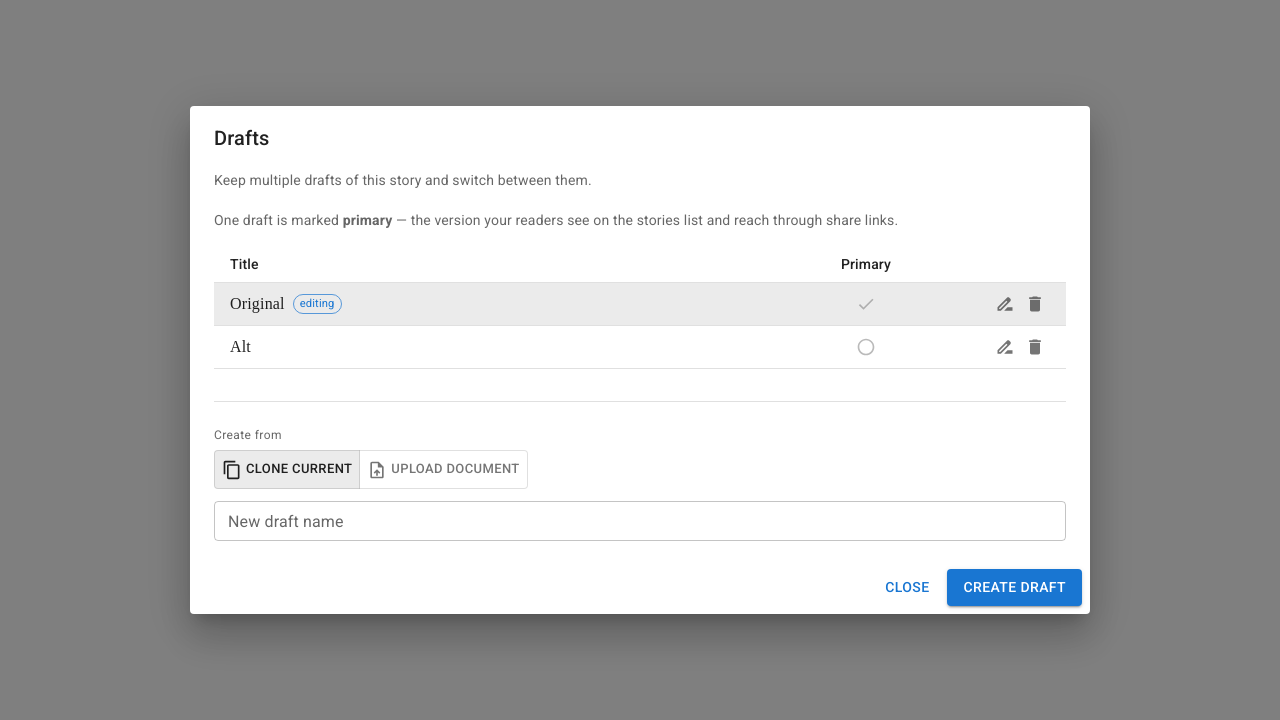
Test: DraftsDialog › doesn't show the 'currently viewing' callout when deleting a non-active draft
Expected: the text "Alt" is shown, [230,336,251,359]
Click the button named "delete" in the row of "Alt" at (1035, 347), box [1020,332,1050,362]
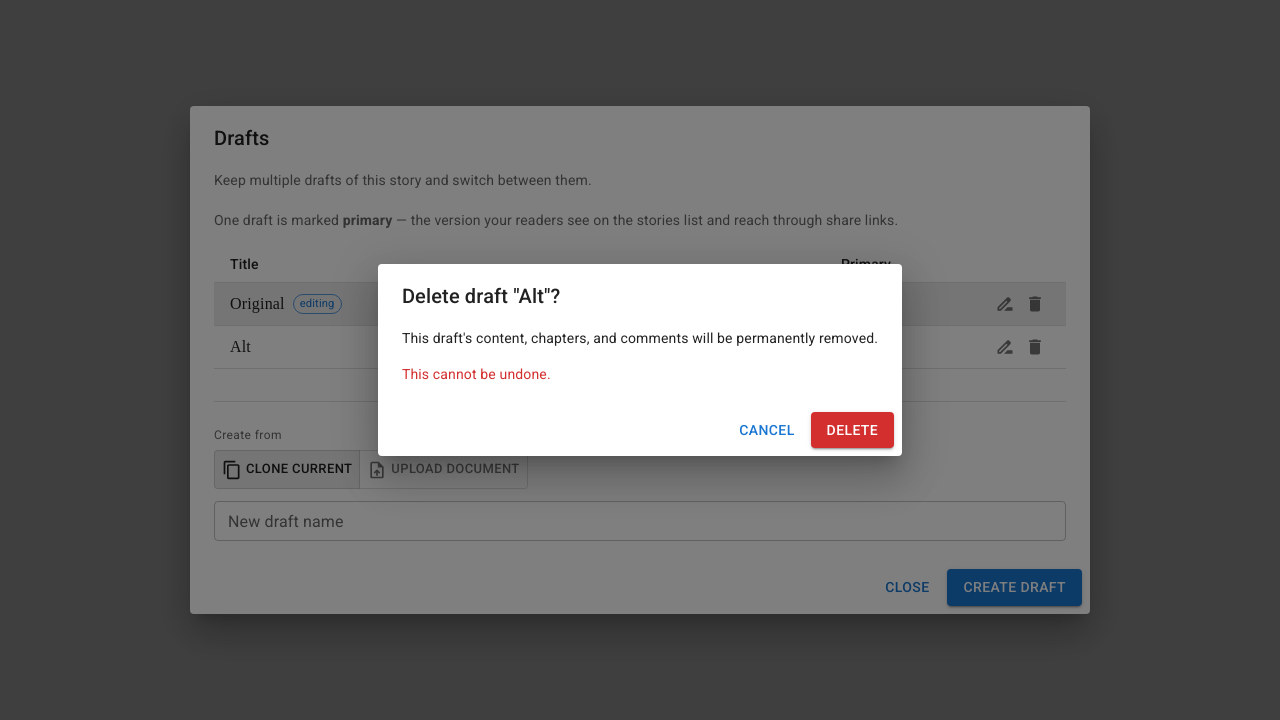
Expected: the heading "Delete draft \"Alt\"?" is shown, [402,284,560,308]
